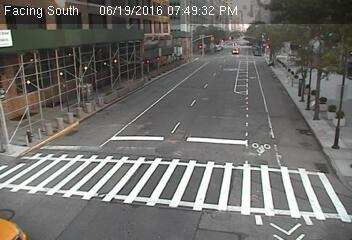neg: (268, 48, 279, 63), (252, 41, 262, 55), (290, 36, 300, 50), (211, 40, 221, 54)
